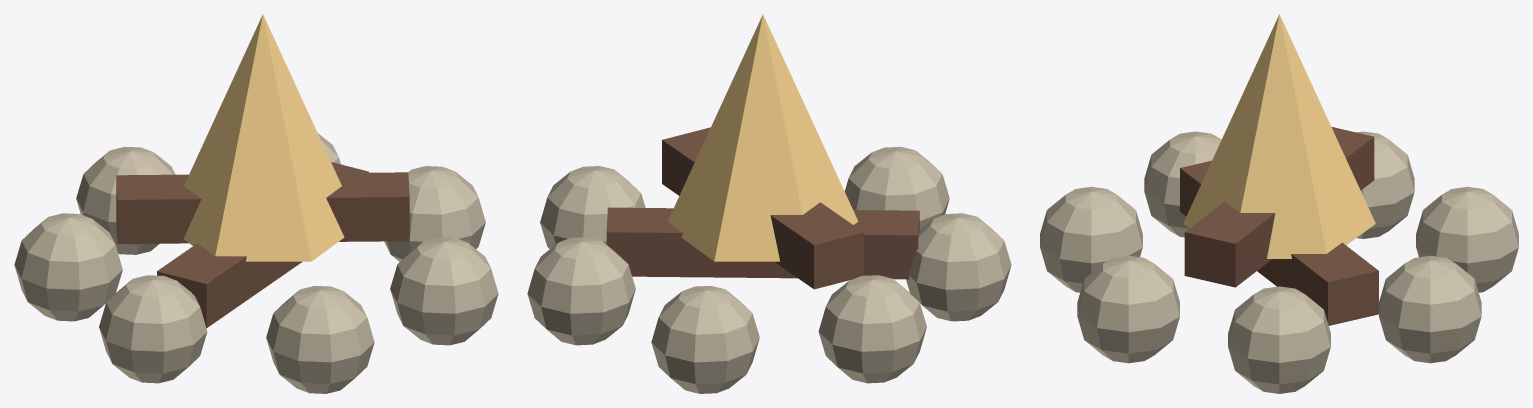
The model's file is campfire.glb.
3 renders of one model, left to right at view 1: azimuth 30°, elevation 25°; view 2: azimuth 150°, elevation 25°; view 3: azimuth 270°, elevation 25°, orthographic.
Visible parts, largest first — view 1: CampfireMesh, FlameMesh; view 2: CampfireMesh, FlameMesh; view 3: CampfireMesh, FlameMesh.
Boxes of the visible parts, x1,y1,x2,y2 form: CampfireMesh: (14, 133, 498, 393); FlameMesh: (183, 14, 344, 261); CampfireMesh: (527, 127, 1011, 393); FlameMesh: (667, 14, 858, 261); CampfireMesh: (1040, 127, 1518, 393); FlameMesh: (1183, 14, 1375, 258).
Bounding box in the file's own units: 2.46 × 1.68 × 2.48.
1 material, 1 textured.
